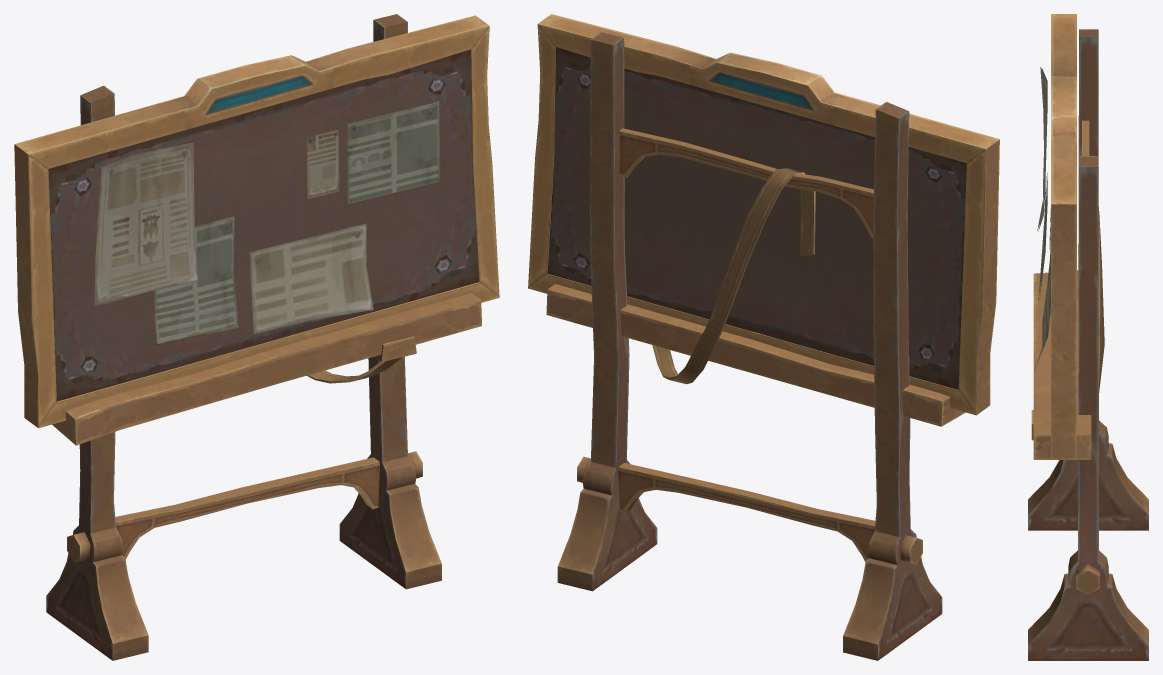
The model's file is Homeworld_Interior_Fd_Decoration_Prop_YijiHeiban_01_Vo.fbx.
The picture shows the model from 3 angles, left to right: view 1: azimuth 30°, elevation 25°; view 2: azimuth 150°, elevation 25°; view 3: azimuth 270°, elevation 25°; orthographic projection. The views are drawn at different scales.
Visible parts, largest first — view 1: Area_Fd_Prop_FKY_Yiji_08_Vo, Area_Fd_Prop_FKY_Zhi_01_Vo, Area_Fd_Prop_FKY_Zhi_03_Vo, Area_Fd_Prop_FKY_Zhi_04_Vo; view 2: Area_Fd_Prop_FKY_Yiji_08_Vo; view 3: Area_Fd_Prop_FKY_Yiji_08_Vo, Area_Fd_Prop_FKY_Zhi_01_Vo, Area_Fd_Prop_FKY_Zhi_03_Vo.
Boxes of the visible parts, left/top/right/bottom form: Area_Fd_Prop_FKY_Yiji_08_Vo: left=14, top=14, right=499, bottom=660; Area_Fd_Prop_FKY_Zhi_01_Vo: left=94, top=142, right=238, bottom=345; Area_Fd_Prop_FKY_Zhi_03_Vo: left=249, top=223, right=373, bottom=333; Area_Fd_Prop_FKY_Zhi_04_Vo: left=307, top=101, right=440, bottom=203; Area_Fd_Prop_FKY_Yiji_08_Vo: left=528, top=14, right=999, bottom=660; Area_Fd_Prop_FKY_Yiji_08_Vo: left=1028, top=14, right=1148, bottom=660; Area_Fd_Prop_FKY_Zhi_01_Vo: left=1037, top=67, right=1047, bottom=300; Area_Fd_Prop_FKY_Zhi_03_Vo: left=1034, top=260, right=1050, bottom=368.
Size of the model in its own units: 1.78 by 1.95 by 0.4337.
Materials: 1 (1 with a texture image).
